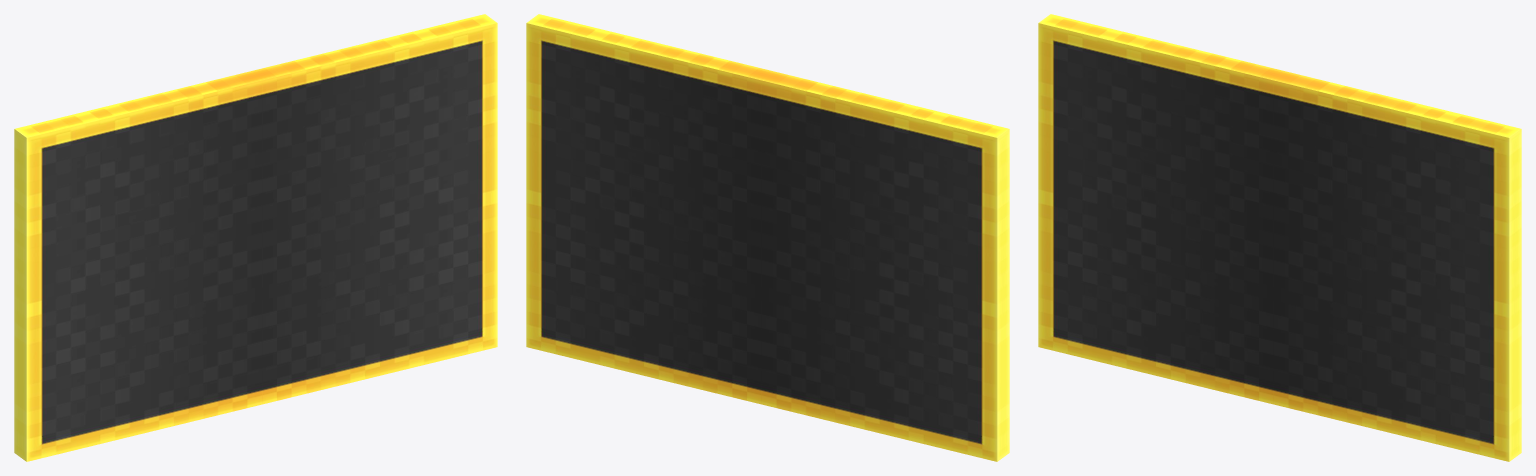
File: workstation_display.glb
3 renders of one model, left to right at view 1: azimuth 30°, elevation 25°; view 2: azimuth 150°, elevation 25°; view 3: azimuth 330°, elevation 25°, orthographic.
Parts seen in each view (by area): view 1: obj_queue; view 2: obj_queue; view 3: obj_queue.
Part boxes in pixels (bbox=[...]): obj_queue: bbox=[14, 14, 497, 461]; obj_queue: bbox=[526, 14, 1009, 461]; obj_queue: bbox=[1038, 14, 1521, 461].
Size of what is drawn, in the model's own units: 0.9051 by 0.5952 by 0.0412.
1 material, 1 textured.
